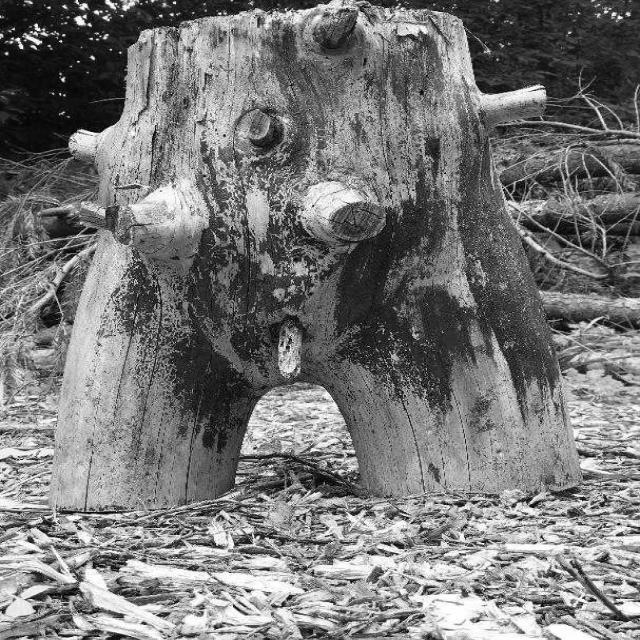Tree: (50, 0, 579, 510)
